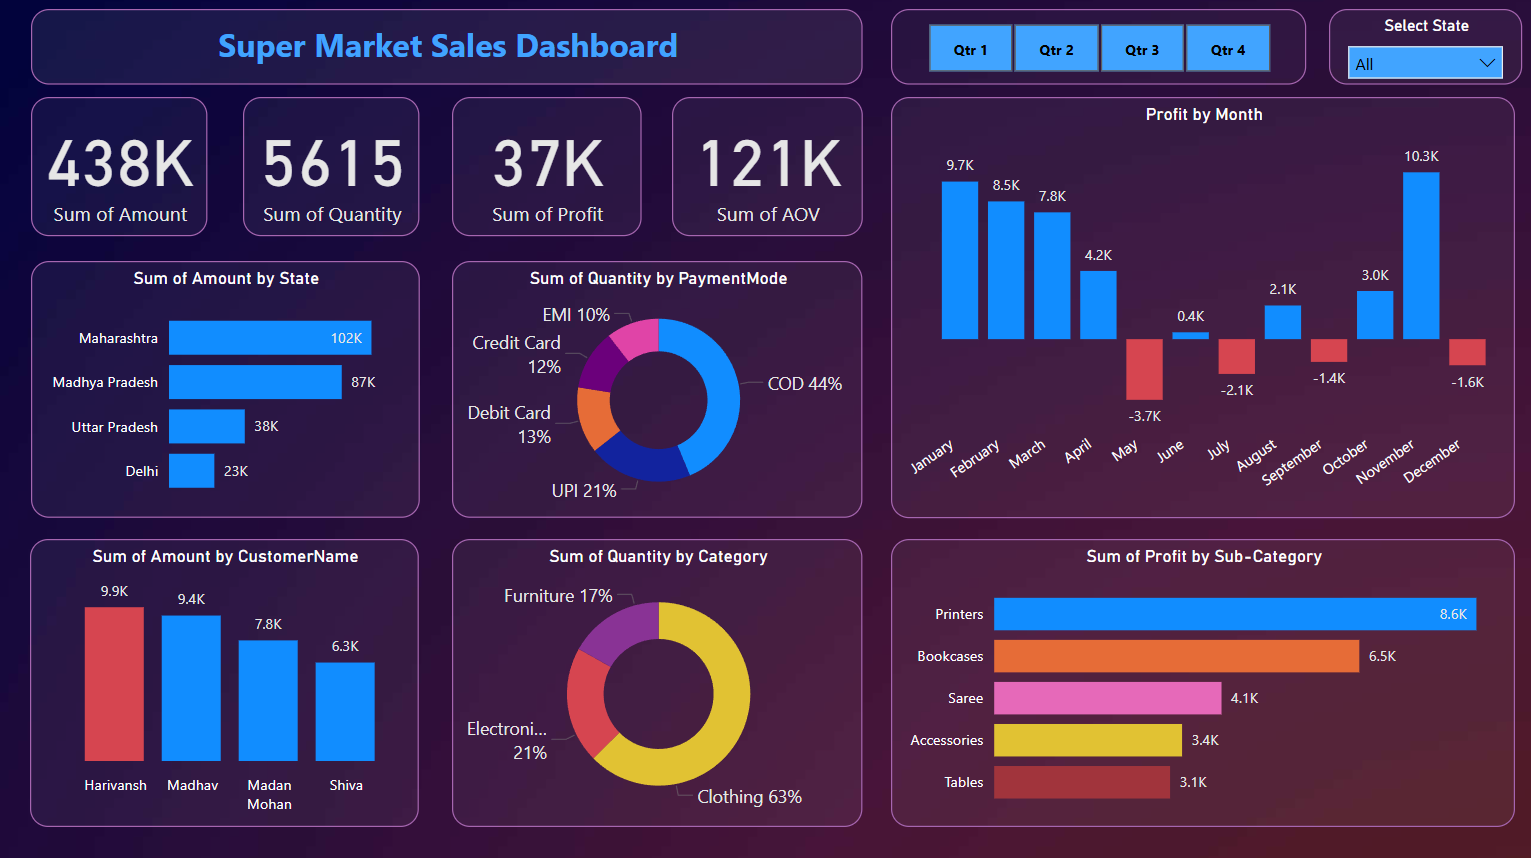

What the dashboard file says about the page in this screenshot:
{"tool":"powerbi","page":{"name":"Page 1","canvas":[1280,720],"ordinal":0},"visuals":[{"type":"textbox","box":[26.3,7.8,693.5,63.2],"z":0},{"type":"columnChart","title":"Profit by Month","fields":{"Category":["Orders.Order Date.Variation.Date Hierarchy.Month"],"Y":["Details.Profit"]},"box":[743.1,80.7,520.4,351.1],"z":1000},{"type":"barChart","fields":{"Category":["Details.Sub-Category"],"Y":["Details.Profit"]},"box":[743.1,449.4,520.4,240.2],"z":2000},{"type":"donutChart","fields":{"Category":["Details.Category"],"Y":["Details.Quantity"]},"box":[377.4,449.4,342.4,240.2],"z":3000},{"type":"donutChart","fields":{"Y":["Details.Quantity"],"Category":["Details.PaymentMode"]},"box":[377.4,217.9,342.4,214],"z":4000},{"type":"card","fields":{"Values":["Details.Amount"]},"box":[26.3,80.7,146.9,115.7],"z":5000},{"type":"card","fields":{"Values":["Details.Profit"]},"box":[377.4,80.7,157.6,115.7],"z":6000},{"type":"card","fields":{"Values":["Details.Quantity"]},"box":[203.3,80.7,146.9,115.7],"z":7000},{"type":"card","fields":{"Values":["Details.AOV"]},"box":[561.2,80.7,158.5,115.7],"z":8000},{"type":"barChart","fields":{"Category":["Orders.State"],"Y":["Details.Amount"]},"box":[26.3,217.9,323.9,214],"z":9000},{"type":"columnChart","fields":{"Category":["Orders.CustomerName"],"Y":["Details.Amount"]},"box":[26,449,324,240],"z":10000},{"type":"slicer","fields":{"Values":["Orders.Order Date.Variation.Date Hierarchy.Quarter"]},"box":[743.1,12.6,346.3,53.5],"z":11000},{"type":"slicer","fields":{"Values":["Orders.State"]},"box":[1108.8,12.6,161.5,53.5],"z":12000}]}

Visuals, with their boxes in screenshot pixels (x1, y1, x2, y2), scaled from the page's 1280x720 canvas onto the 1531x858 screenshot:
textbox: [left=31, top=9, right=861, bottom=85]
"Profit by Month" columnChart: [left=889, top=96, right=1511, bottom=515]
barChart - Details.Sub-Category x Details.Profit: [left=889, top=536, right=1511, bottom=822]
donutChart - Details.Category x Details.Quantity: [left=451, top=536, right=861, bottom=822]
donutChart - Details.Quantity x Details.PaymentMode: [left=451, top=260, right=861, bottom=515]
card - Details.Amount: [left=31, top=96, right=207, bottom=234]
card - Details.Profit: [left=451, top=96, right=640, bottom=234]
card - Details.Quantity: [left=243, top=96, right=419, bottom=234]
card - Details.AOV: [left=671, top=96, right=861, bottom=234]
barChart - Orders.State x Details.Amount: [left=31, top=260, right=419, bottom=515]
columnChart - Orders.CustomerName x Details.Amount: [left=31, top=535, right=419, bottom=821]
slicer - Orders.Order Date.Variation.Date Hierarchy.Quarter: [left=889, top=15, right=1303, bottom=79]
slicer - Orders.State: [left=1326, top=15, right=1519, bottom=79]
